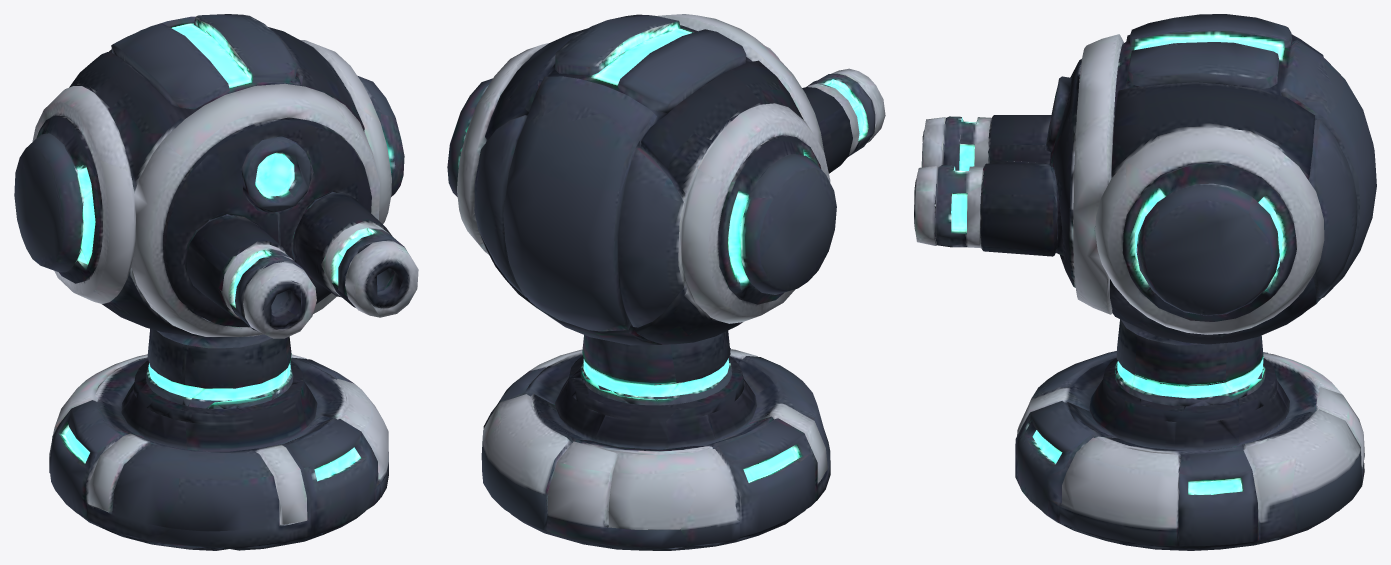
File: warrior-1-tier-1.glb
The picture shows the model from 3 angles, left to right: view 1: azimuth 30°, elevation 25°; view 2: azimuth 150°, elevation 25°; view 3: azimuth 270°, elevation 25°; orthographic projection. The views are drawn at different scales.
Parts seen in each view (by area): view 1: moving-assembly, fixed-platform; view 2: moving-assembly, fixed-platform; view 3: moving-assembly, fixed-platform.
Part boxes in pixels (bbox=[...]): moving-assembly: bbox=[14, 14, 418, 348]; fixed-platform: bbox=[49, 329, 388, 550]; moving-assembly: bbox=[447, 14, 885, 345]; fixed-platform: bbox=[481, 330, 830, 550]; moving-assembly: bbox=[914, 14, 1376, 345]; fixed-platform: bbox=[1015, 319, 1364, 550].
Size of the model in its own units: 0.7395 by 0.9295 by 0.8723.
Materials: 1 (1 with a texture image).
